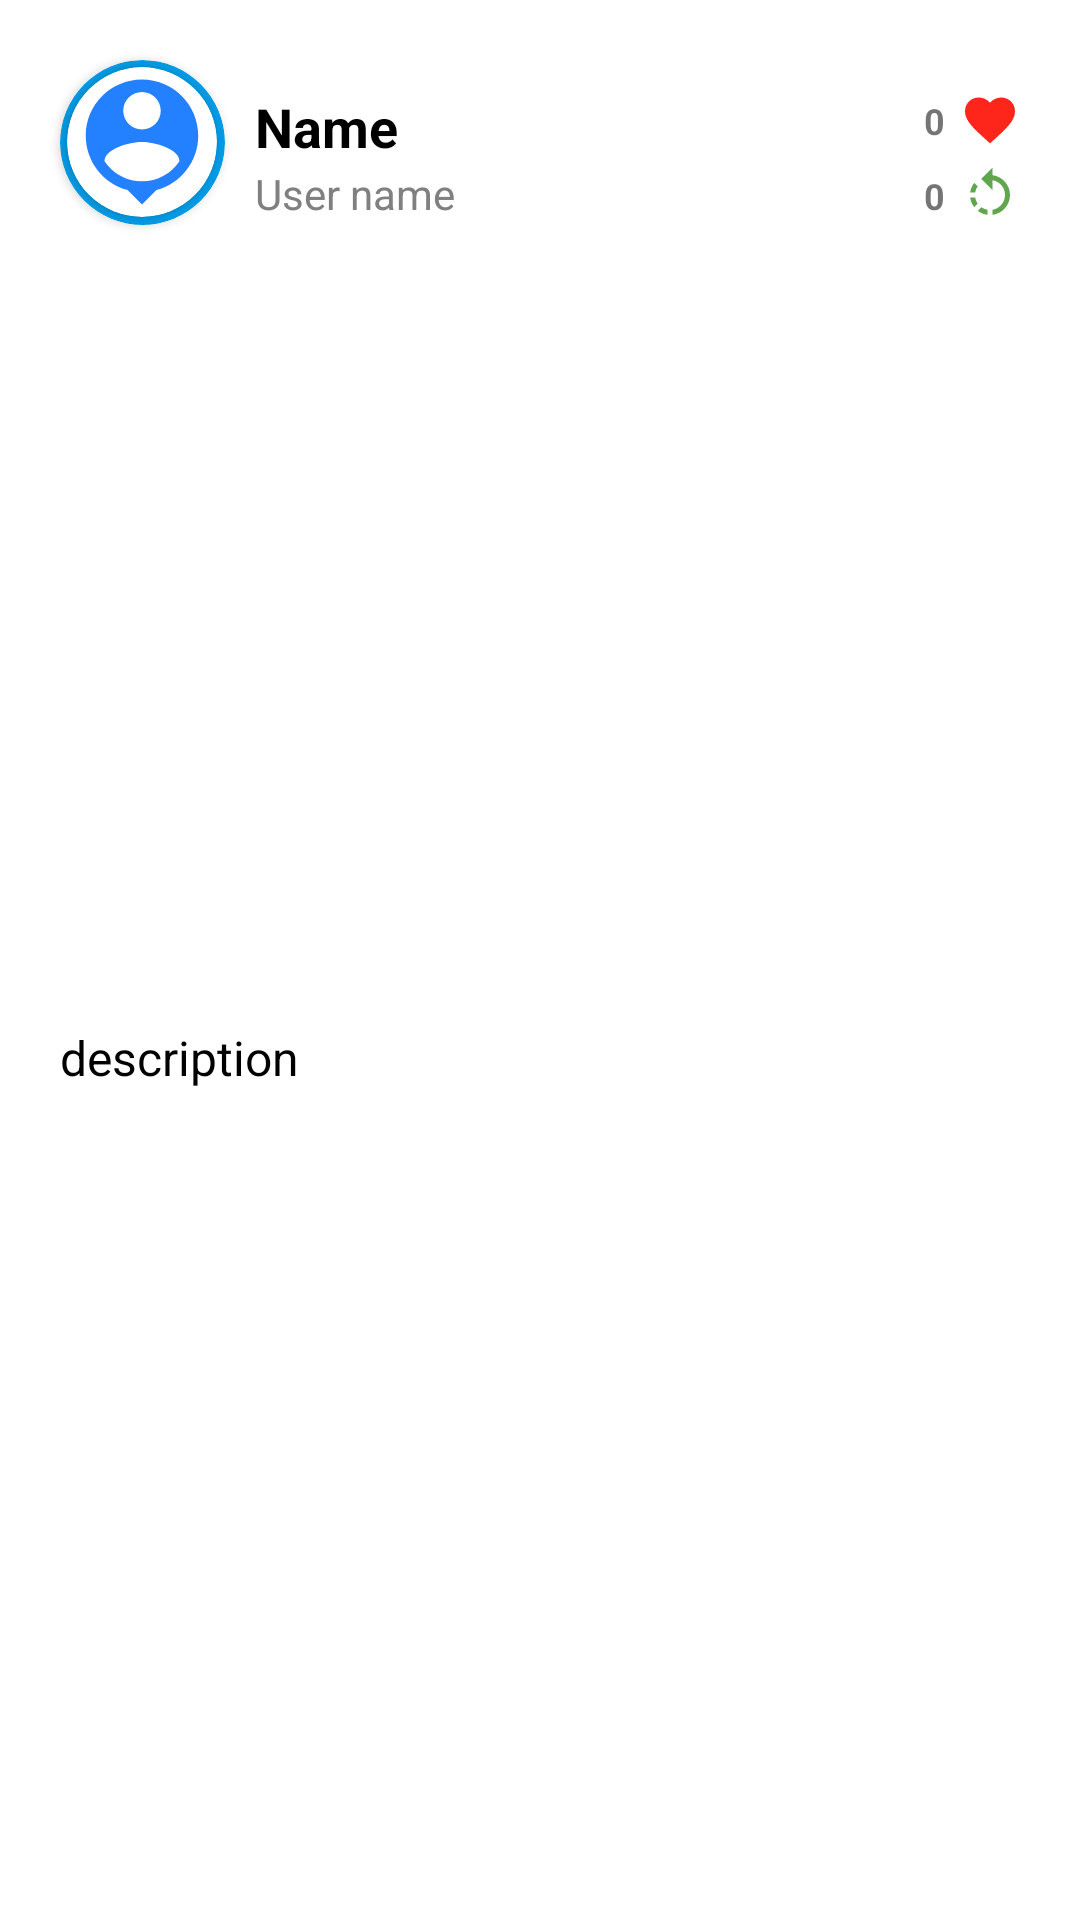

Point at icon controls on the screen. Image size 1080w x 1920h, points as [x,y].
heart: [990,120]
person: [142,142]
